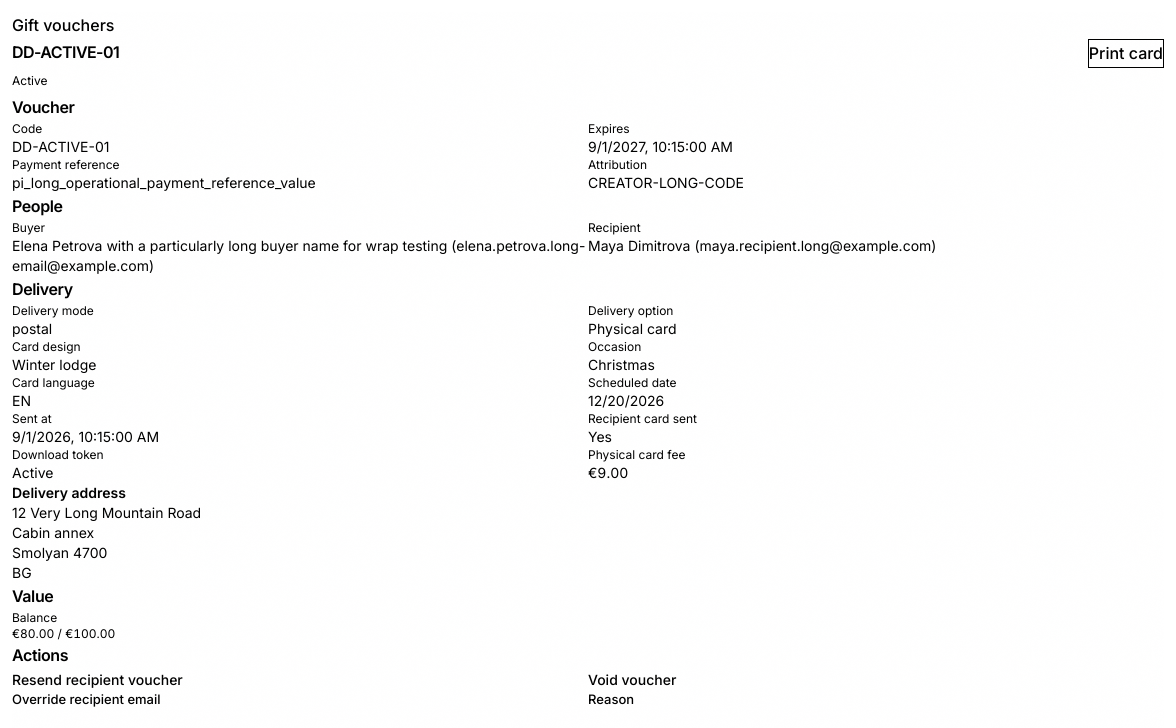
Scenario: OpsGiftVoucherDetail migration › navigates back to the collection route without using history
Click the link "Gift vouchers" at (63, 26), box [12, 12, 114, 39]
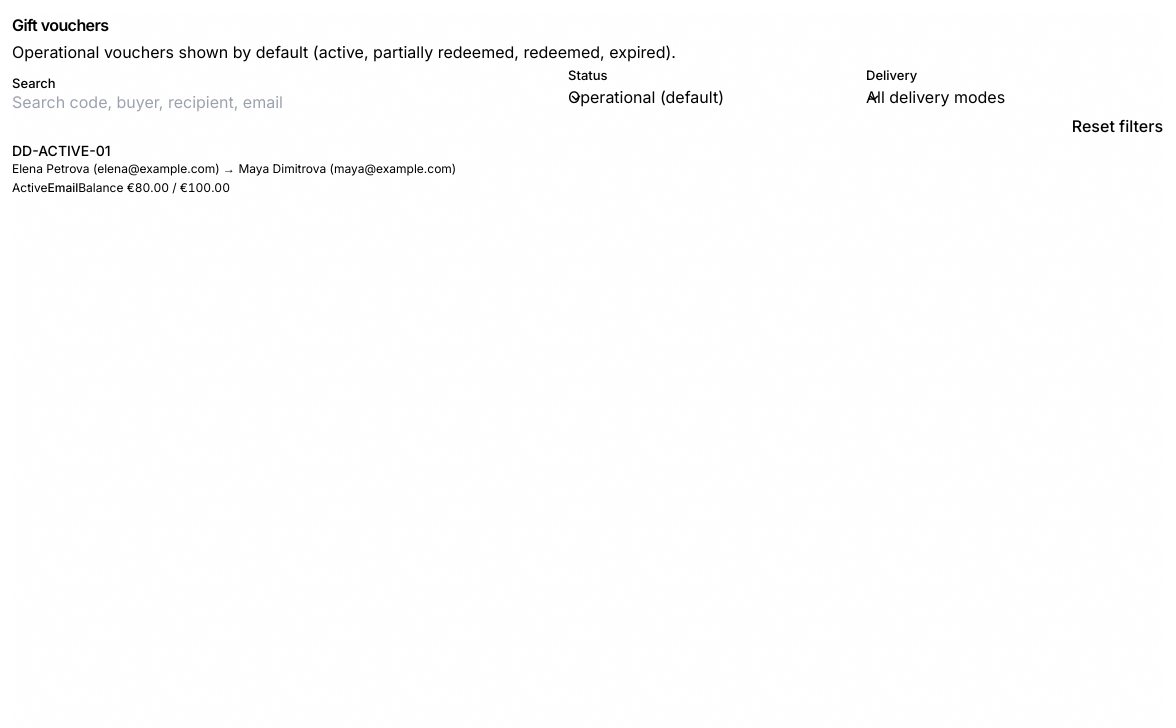
Expected: the heading "Gift vouchers" is shown, [12, 15, 108, 35]
